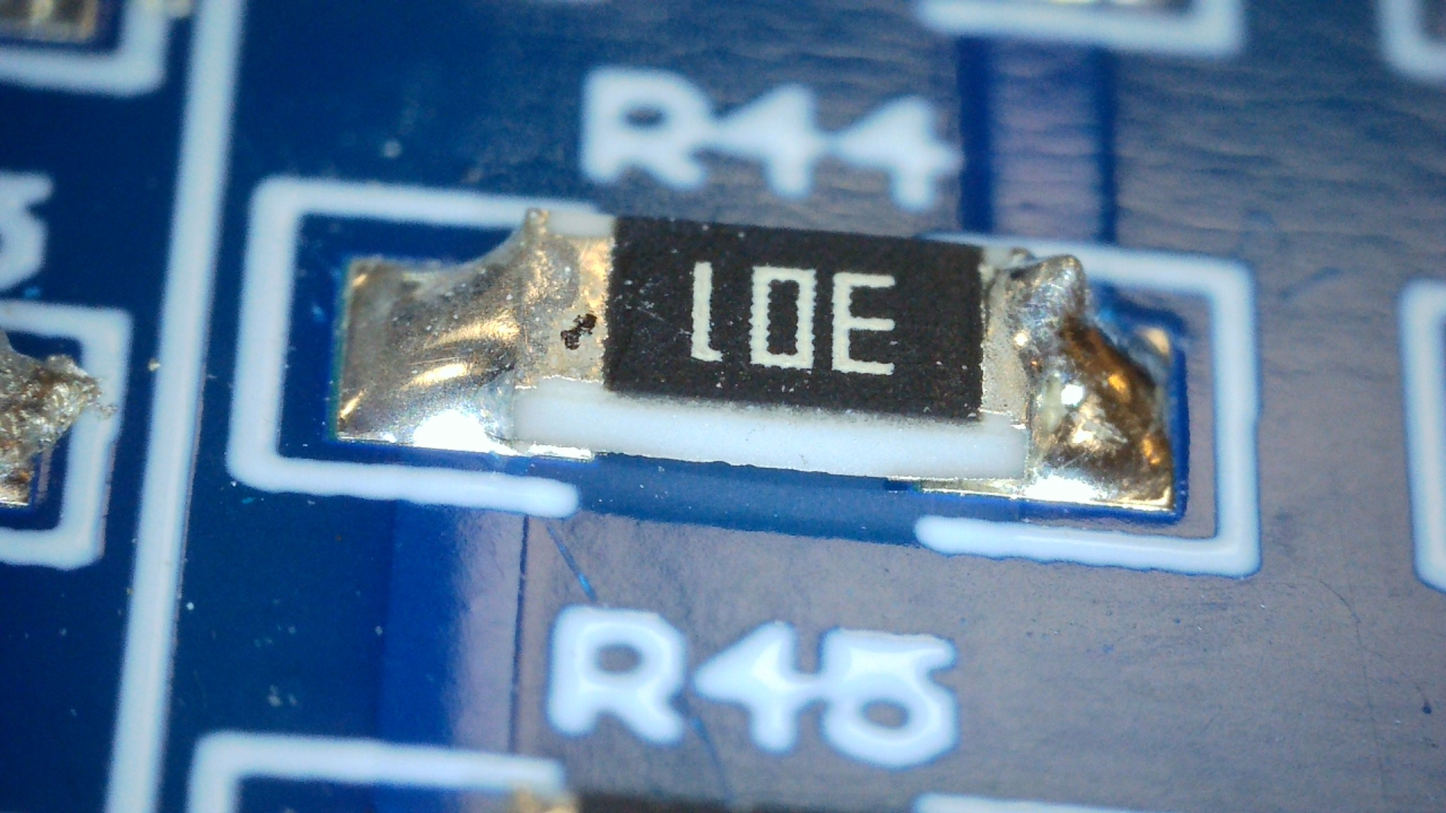NG: (1000, 254, 1156, 465)
OK: (336, 208, 614, 450)
